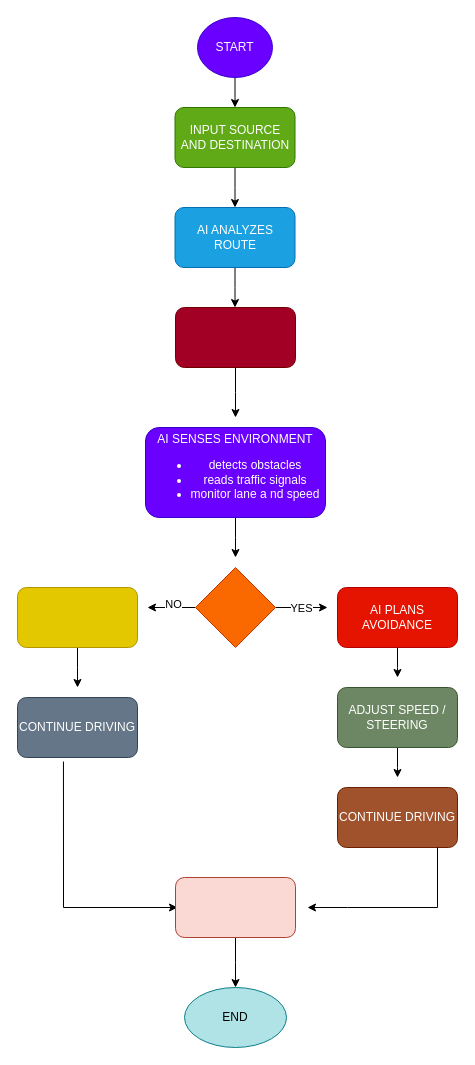
This 475x1065 diagram has some shape labels left out. The centre of each missing label's shape, as x and y in pixels:
MAINTAIN SPEED & LANE: (77,617)
OBSTACLE EXISTS?: (235,607)
REACH DESTINATION: (235,907)
START DRIVING: (235,337)
